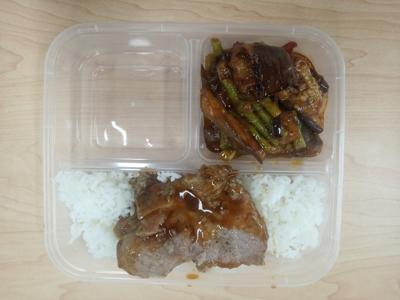sqz: (202, 38, 329, 160)
